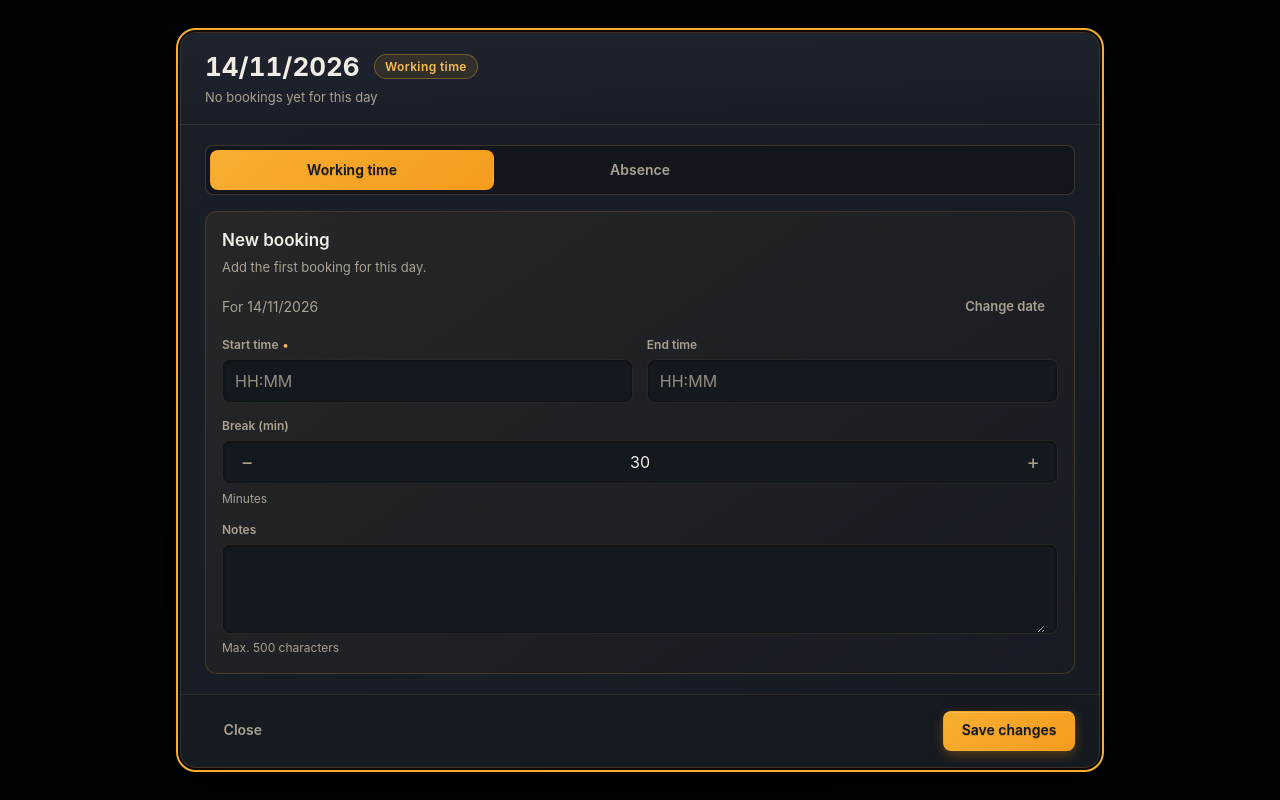
Scenario: TimeEntryDialog › shows the header and an empty state in working mode
The image size is (1280, 800).
Expected: the heading "New booking" is shown, [222,230,330,250]
Expected: the dialog shows "14/11/2026", [205,51,360,82]
Click the button "Change date": [1005, 307] box [952,291,1058,323]
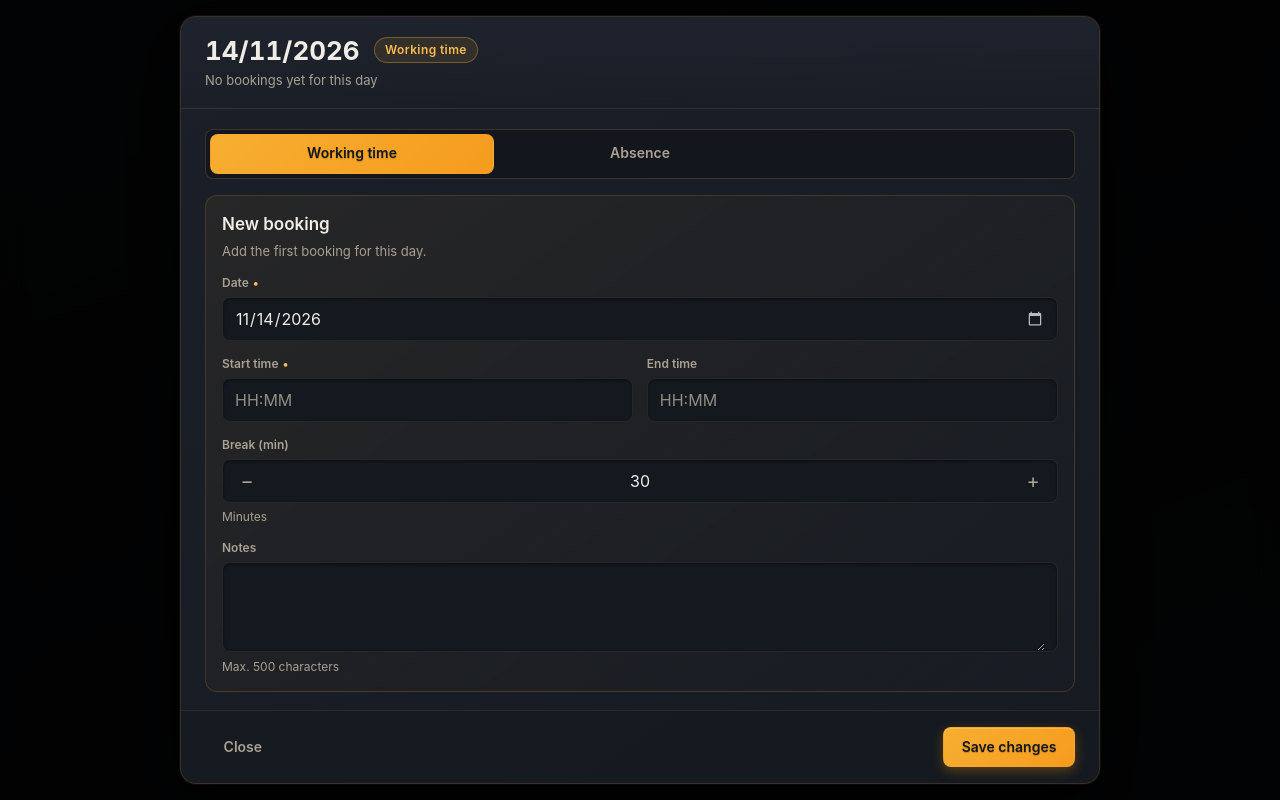
Expected: the number field labelled "Break (min)" holds "30", [271,460,1009,502]
Expected: the date field labelled "Date•" is shown, [235,298,1045,340]
